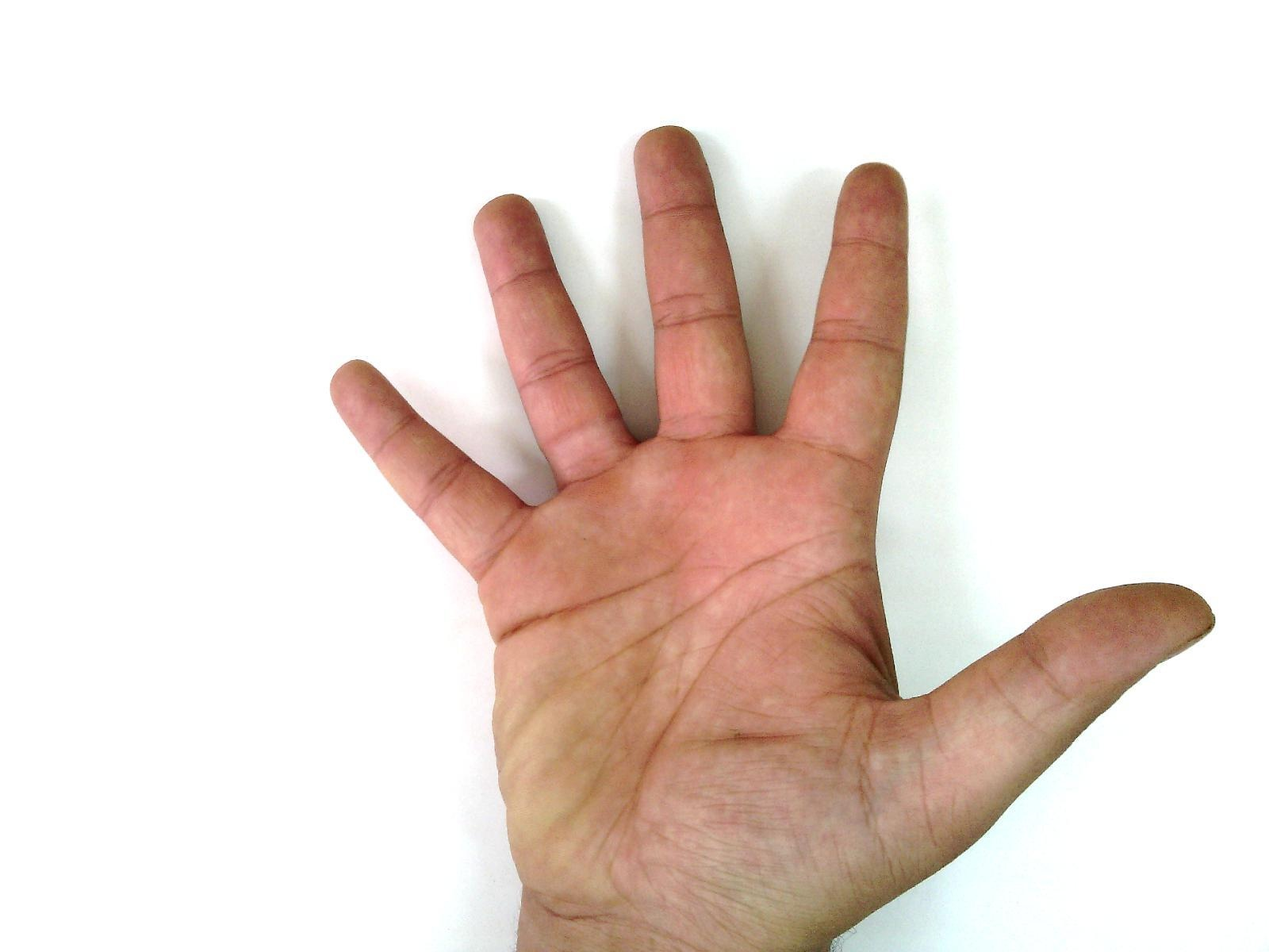open_palm: (332, 124, 1217, 942)
